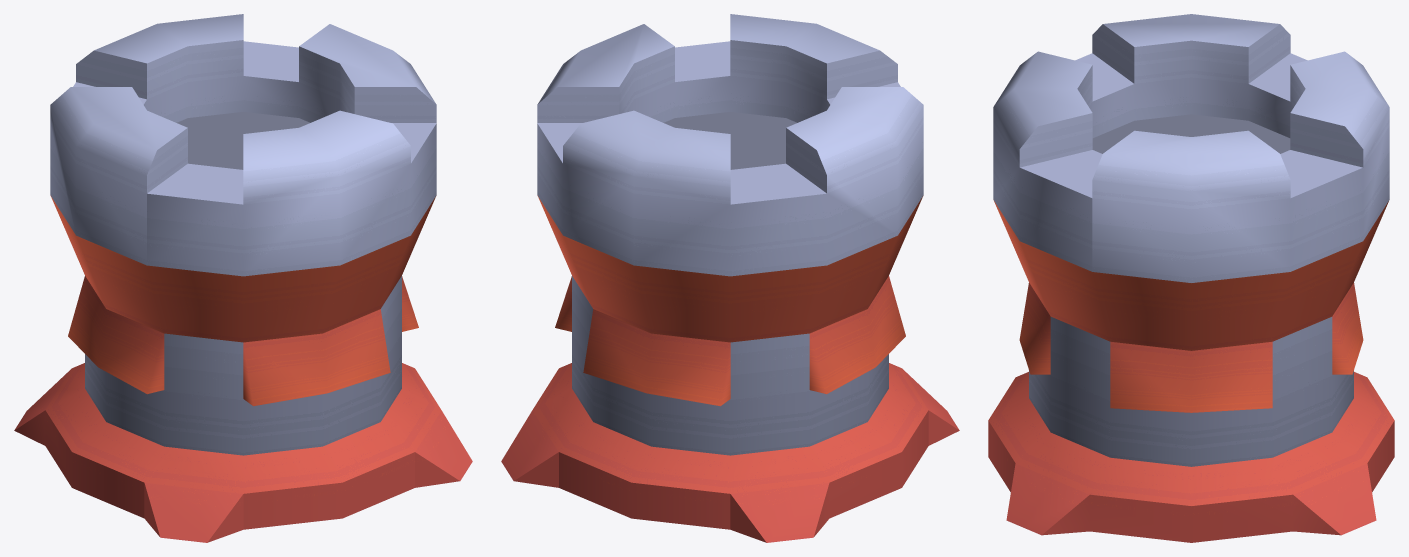
The model's file is tower-defense-kit--tower-round-build-b.glb.
The picture shows the model from 3 angles, left to right: view 1: azimuth 30°, elevation 25°; view 2: azimuth 150°, elevation 25°; view 3: azimuth 270°, elevation 25°; orthographic projection. The views are drawn at different scales.
Parts seen in each view (by area): view 1: tower-round-build-b; view 2: tower-round-build-b; view 3: tower-round-build-b.
Part boxes in pixels (bbox=[...]): tower-round-build-b: bbox=[14, 14, 472, 542]; tower-round-build-b: bbox=[501, 14, 959, 542]; tower-round-build-b: bbox=[988, 14, 1394, 542].
Size of the model in its own units: 1 by 1 by 1.
1 material, 1 textured.
